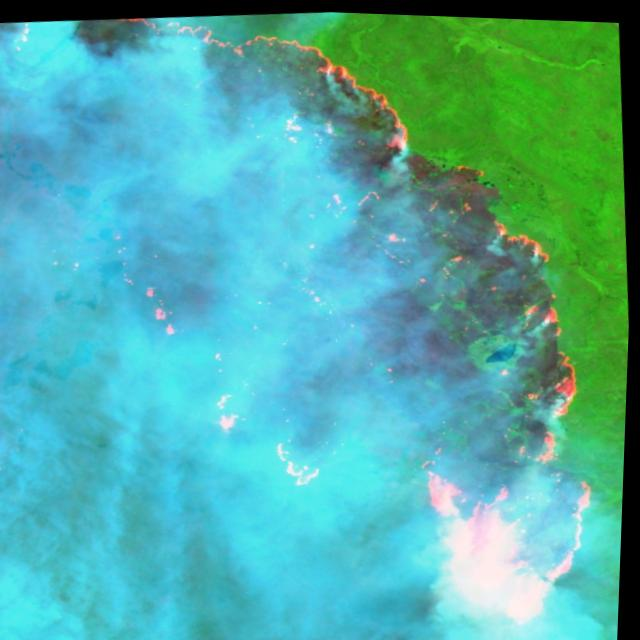fire: (55, 2, 640, 640)
